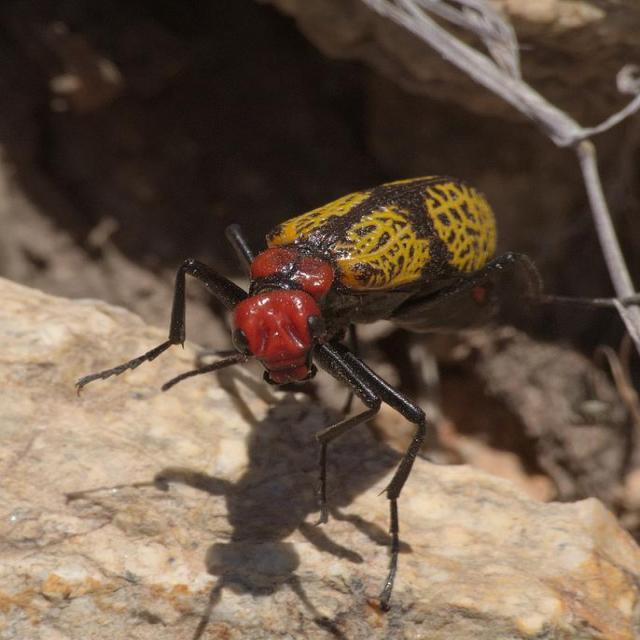BlisterBeetle-Adult-: (89, 163, 614, 538)
